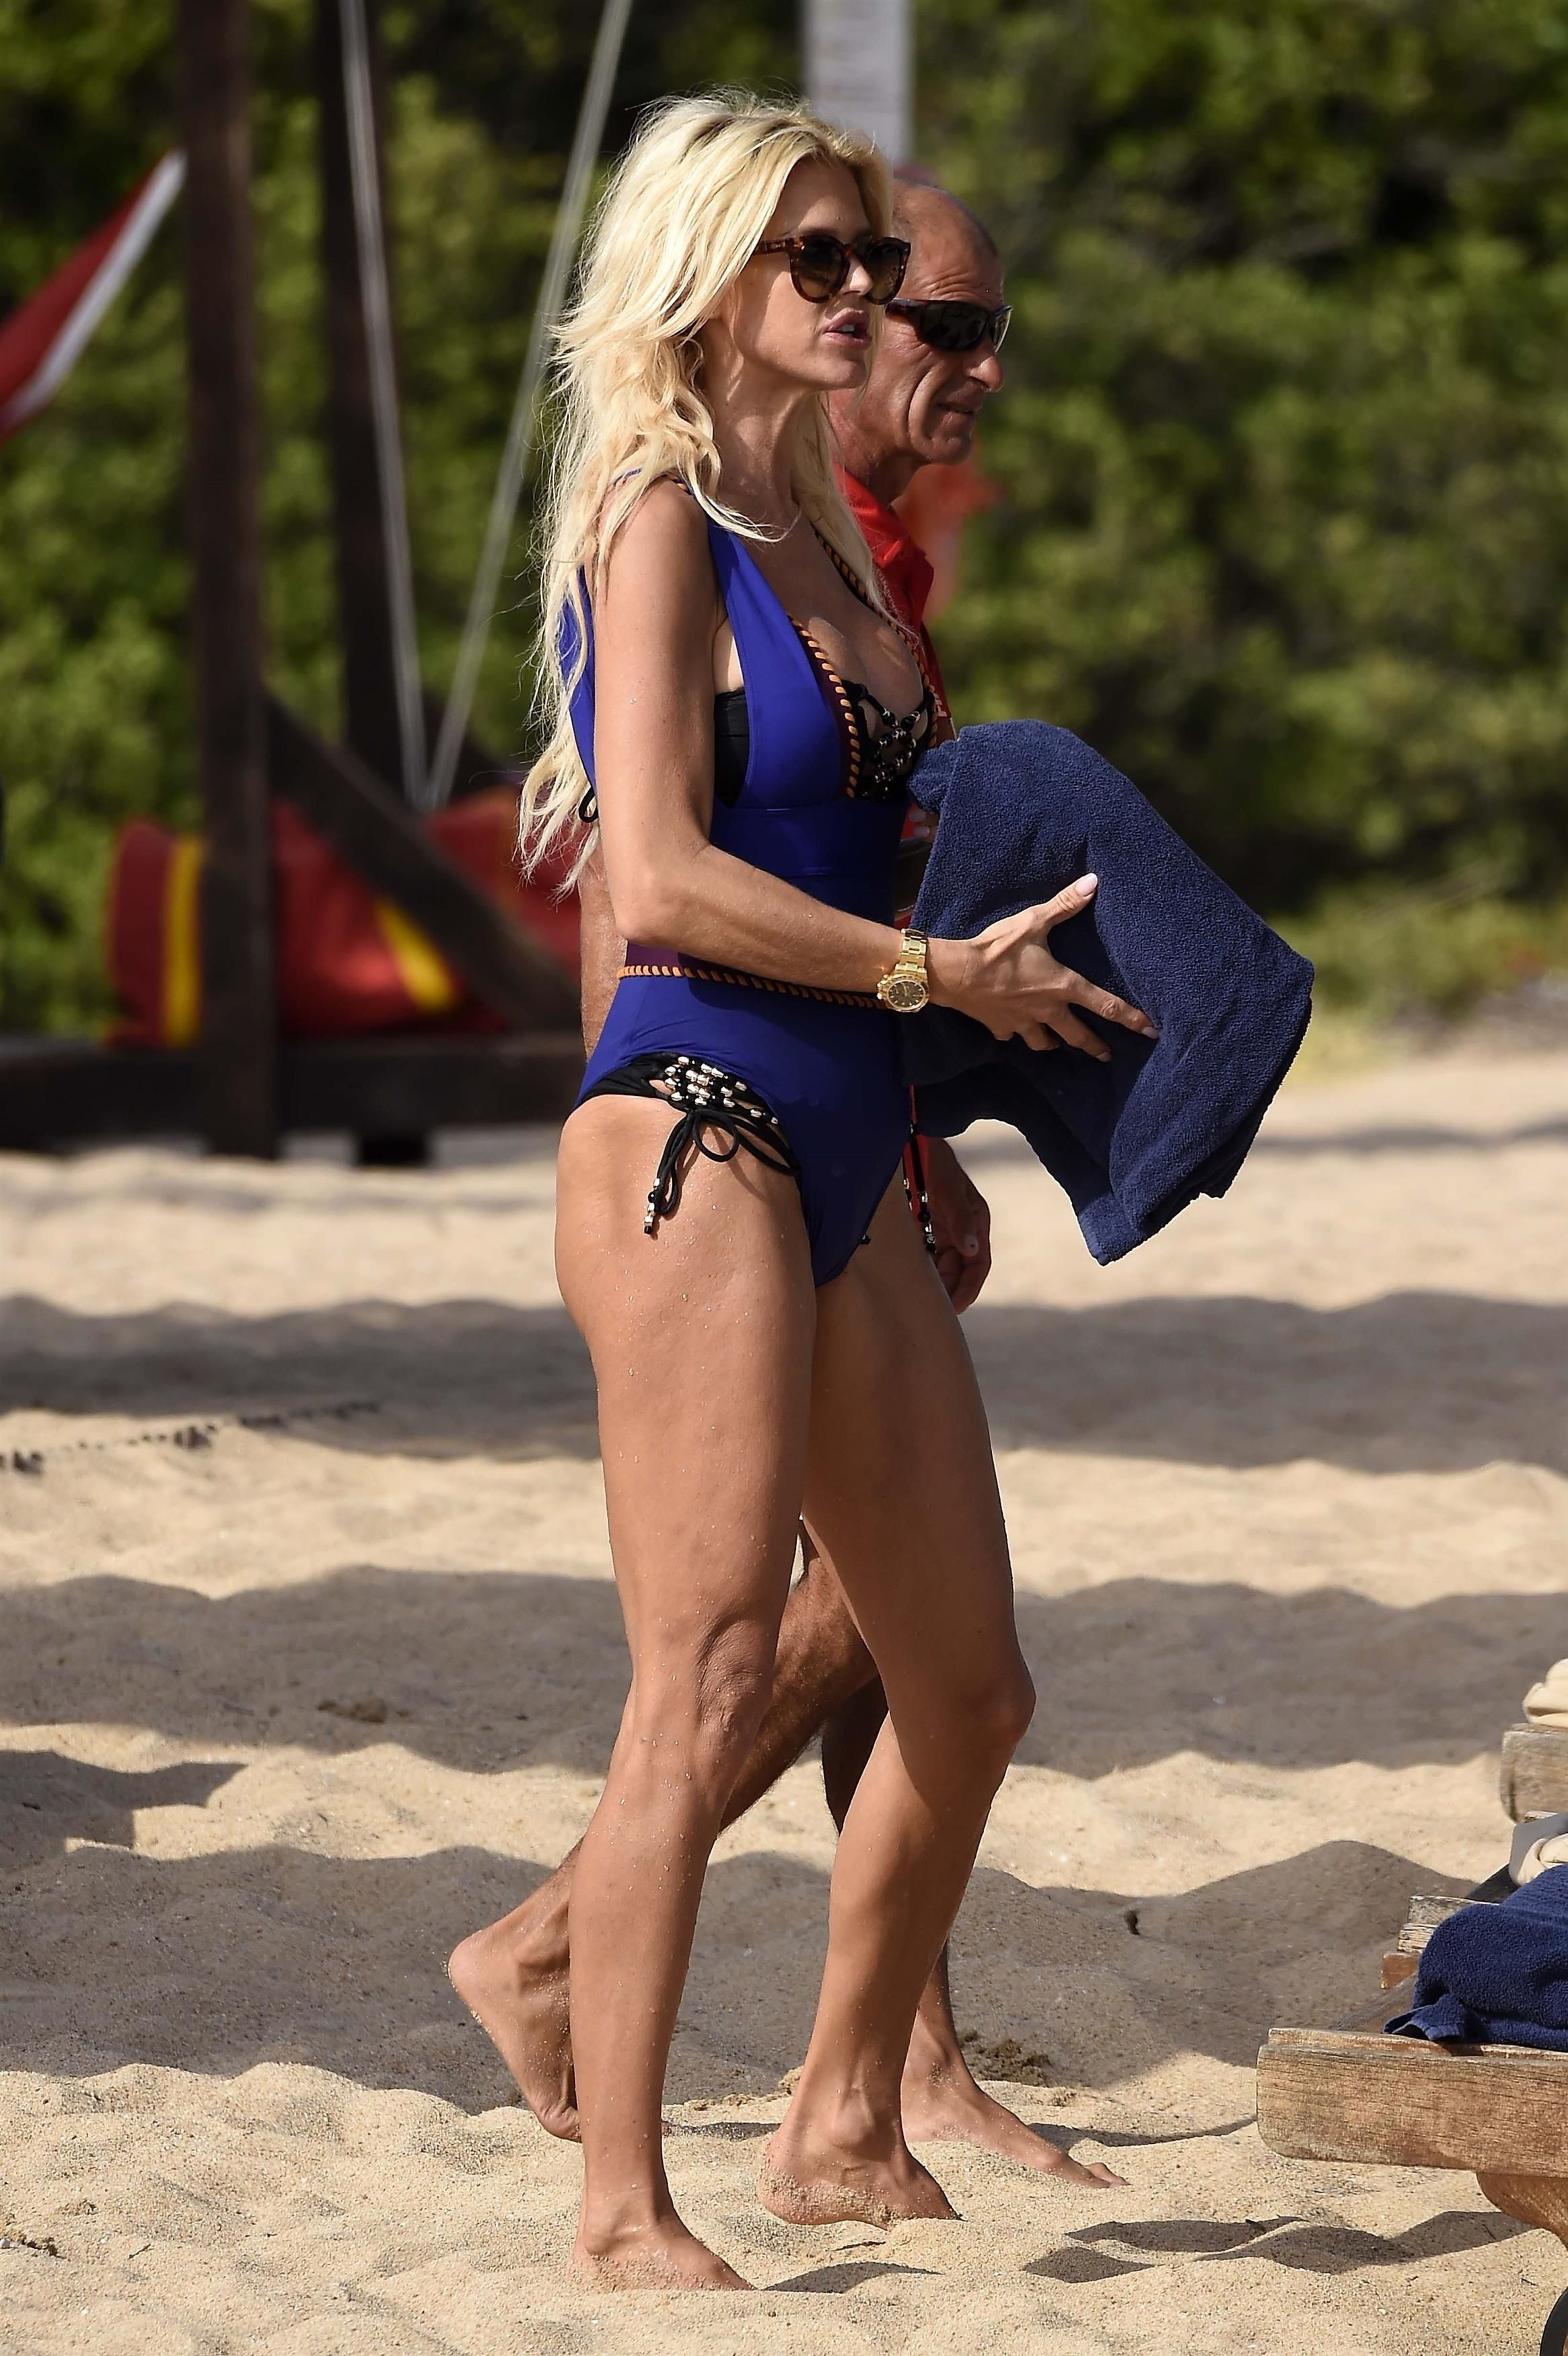Person: (445, 81, 1157, 2334), (421, 164, 1142, 2211)
